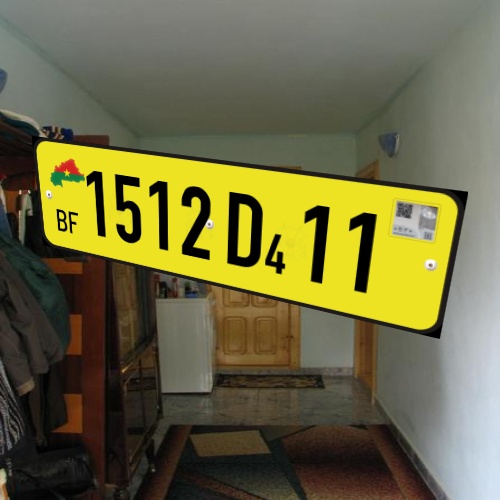plate: (22, 119, 473, 346)
